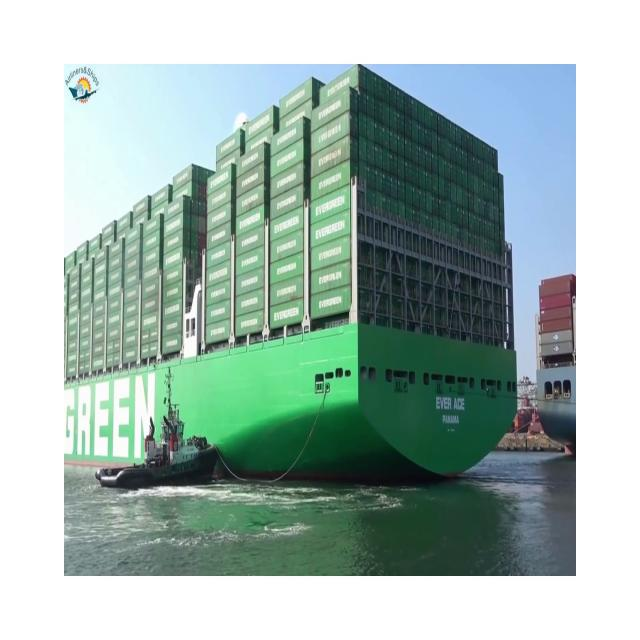OCR: (64, 362, 162, 462), (420, 380, 468, 438)
